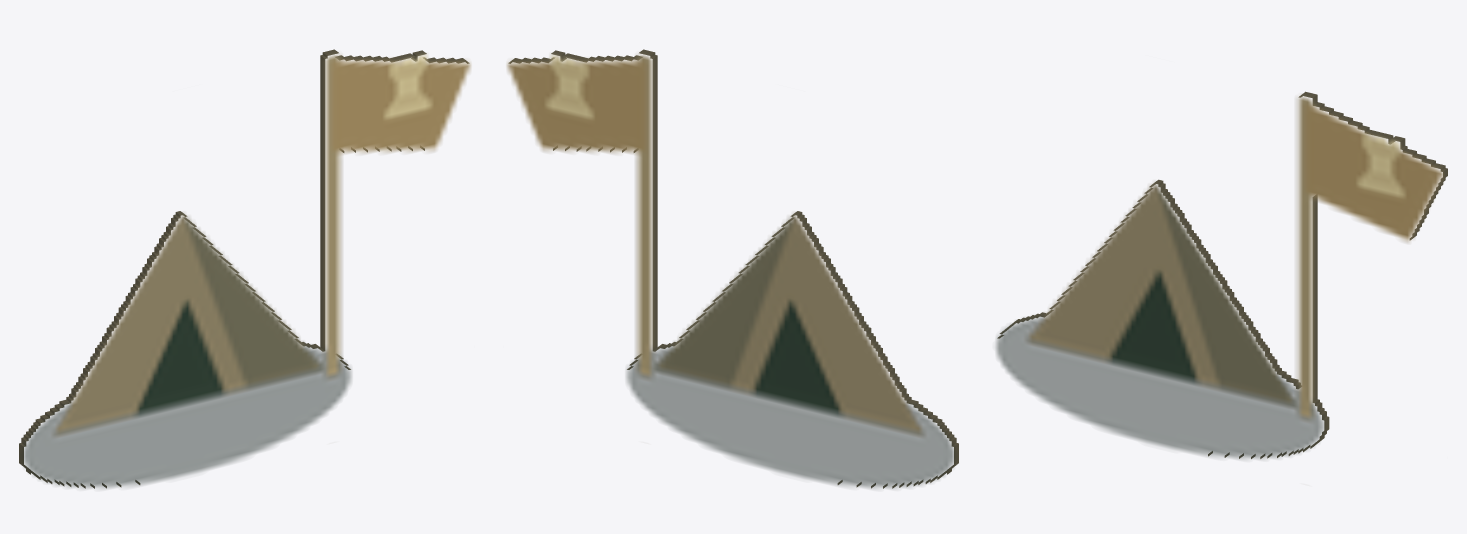
The model's file is TentAndFlag.glb.
The picture shows the model from 3 angles, left to right: view 1: azimuth 30°, elevation 25°; view 2: azimuth 150°, elevation 25°; view 3: azimuth 330°, elevation 25°; orthographic projection.
Parts seen in each view (by area): view 1: Visual; view 2: Visual; view 3: Visual.
Boxes of the visible parts, left/top/right/bottom form: Visual: left=19, top=49, right=471, bottom=488; Visual: left=506, top=49, right=958, bottom=488; Visual: left=996, top=91, right=1447, bottom=459.
Size of the model in its own units: 4.24 by 3.48 by 0.08.
3 materials, 2 textured.
